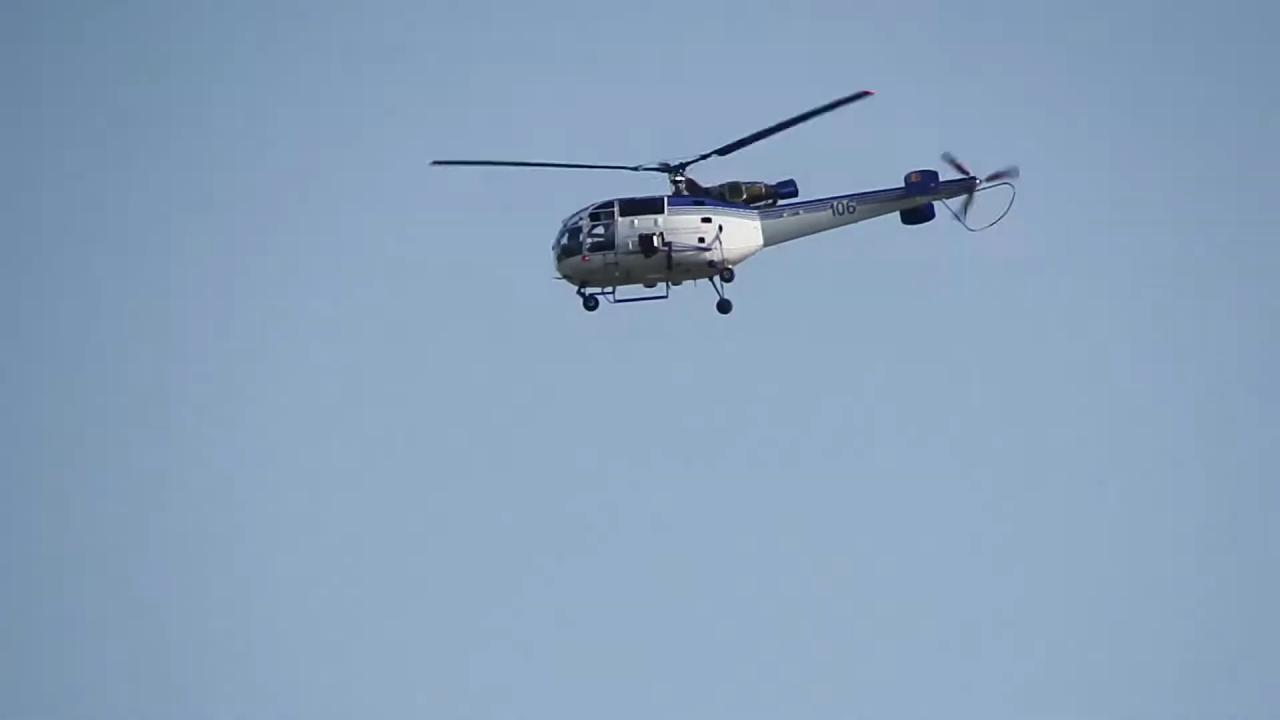Helicopter: (411, 61, 1038, 359)
